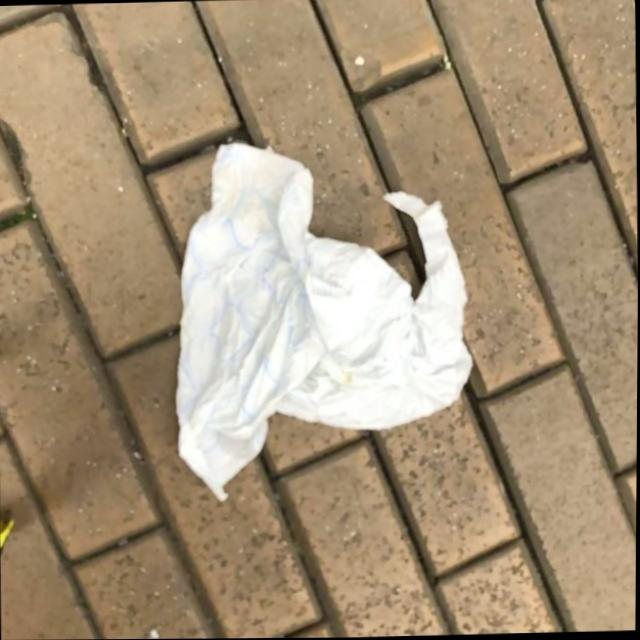Paper: (170, 132, 474, 503)
